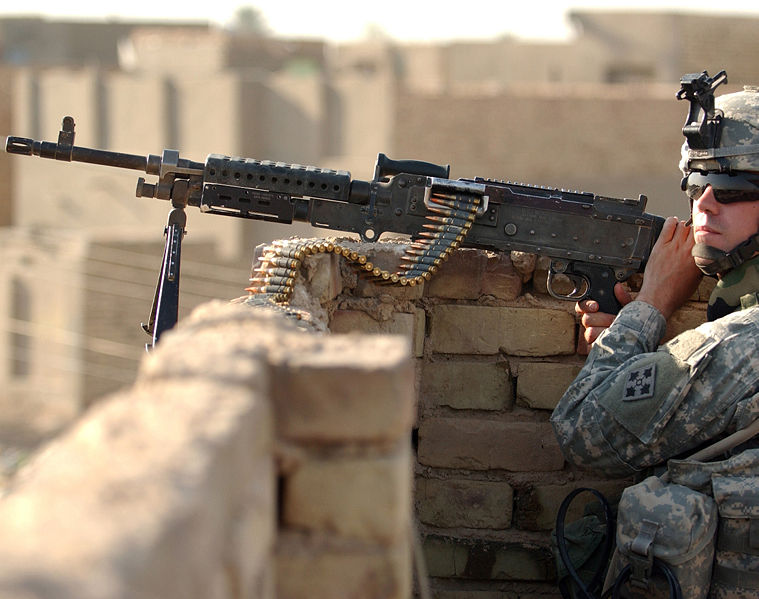rifle: (9, 103, 646, 277)
